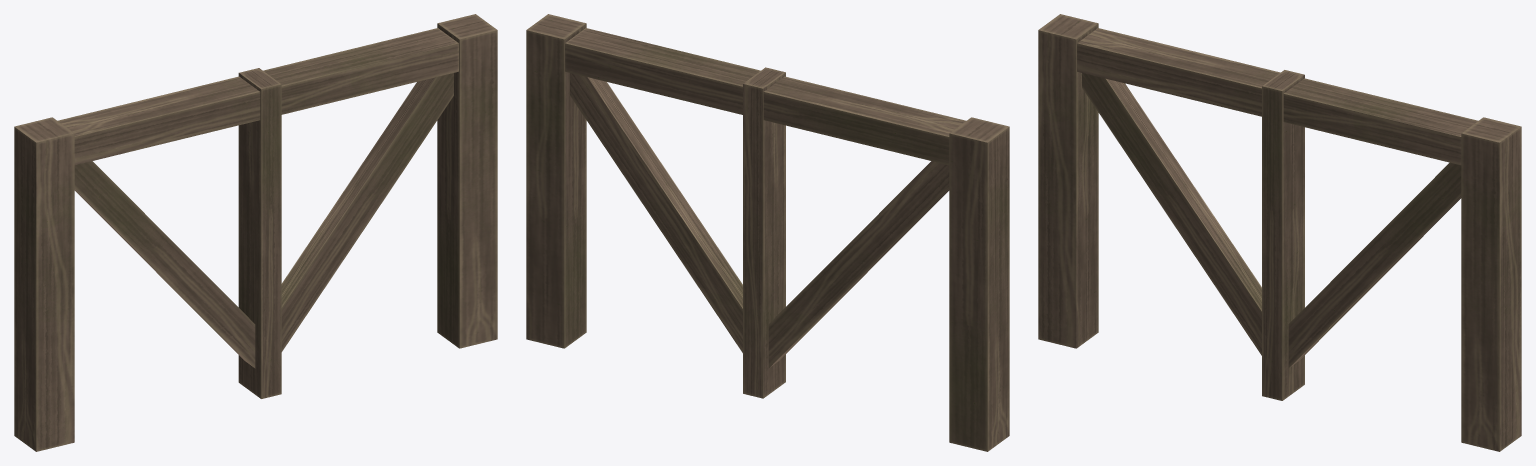
File: SM_fence_wooden_01.fbx
3 renders of one model, left to right at view 1: azimuth 30°, elevation 25°; view 2: azimuth 150°, elevation 25°; view 3: azimuth 330°, elevation 25°, orthographic.
Visible parts, largest first — view 1: Object032; view 2: Object032; view 3: Object032.
Part boxes in pixels (box(x1,y1,x2,y2)): Object032: box(14, 14, 497, 451); Object032: box(526, 14, 1009, 451); Object032: box(1038, 14, 1521, 451).
Bounding box in the file's own units: 54.83 × 35.28 × 4.66.
